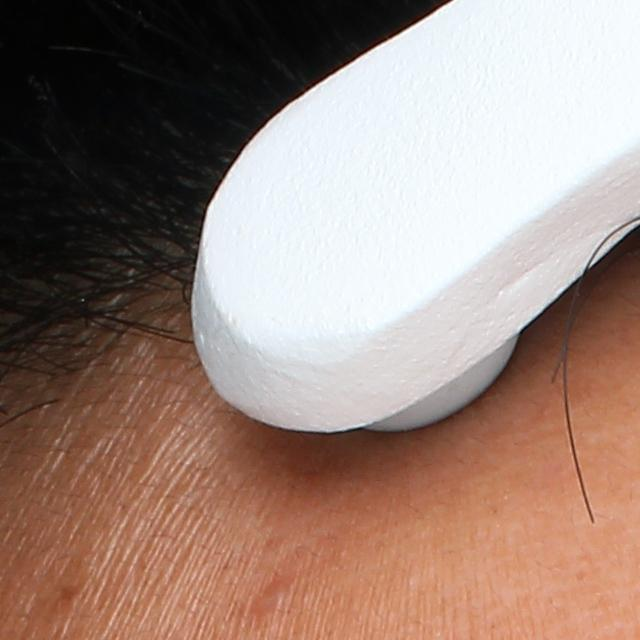papule: (254, 577, 299, 617)
